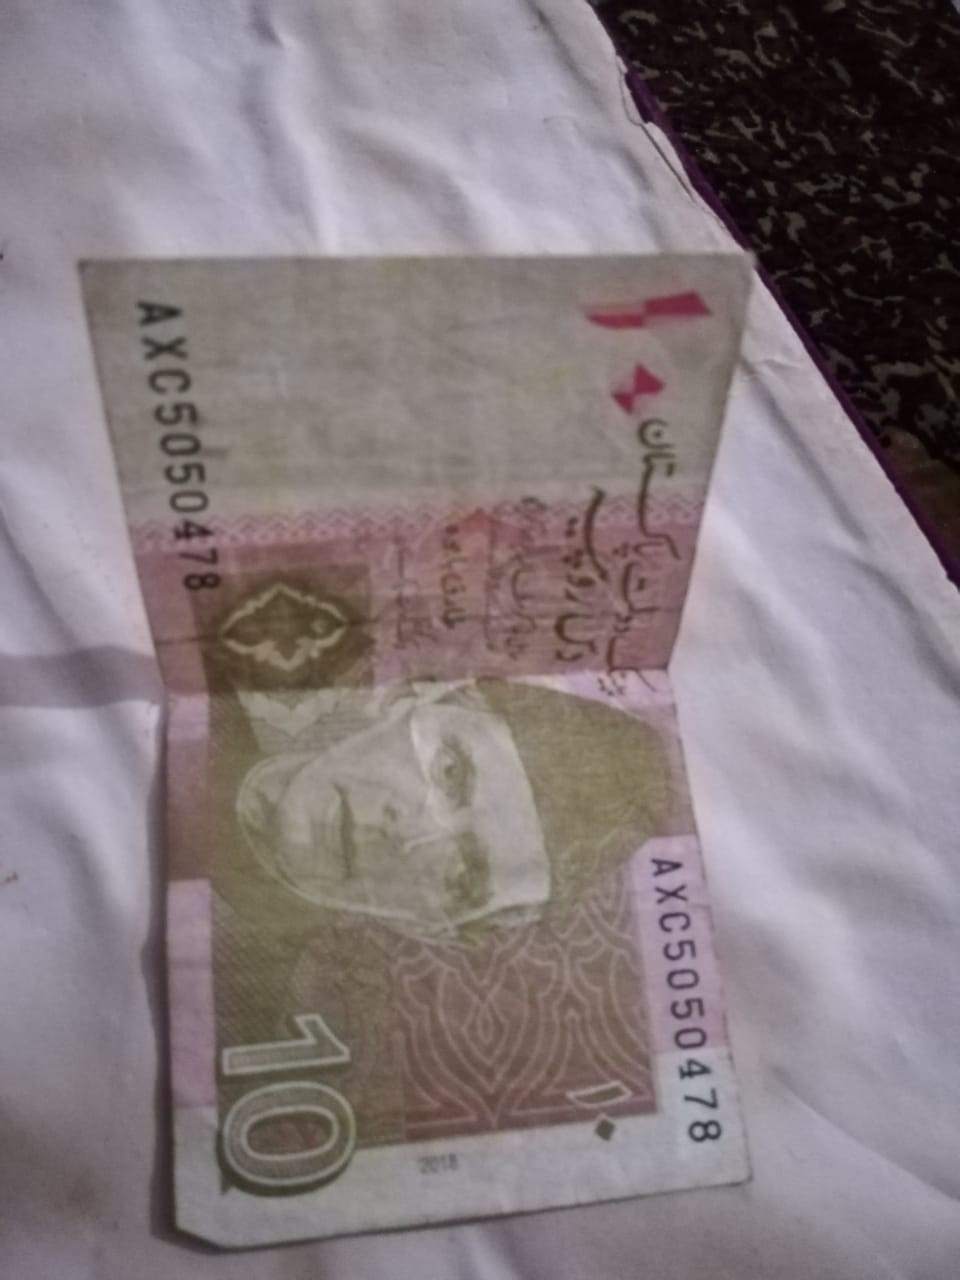10 rupee: (74, 237, 752, 1239)
